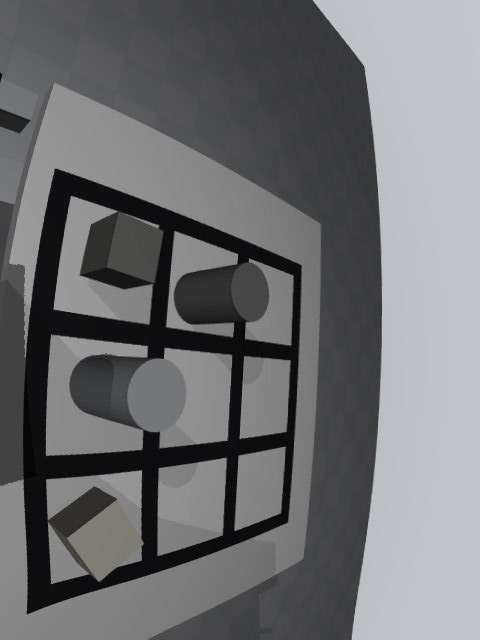can: (69, 355, 186, 432)
cube: (79, 212, 164, 289)
cylinder: (174, 262, 269, 324)
foam: (47, 486, 144, 583)
